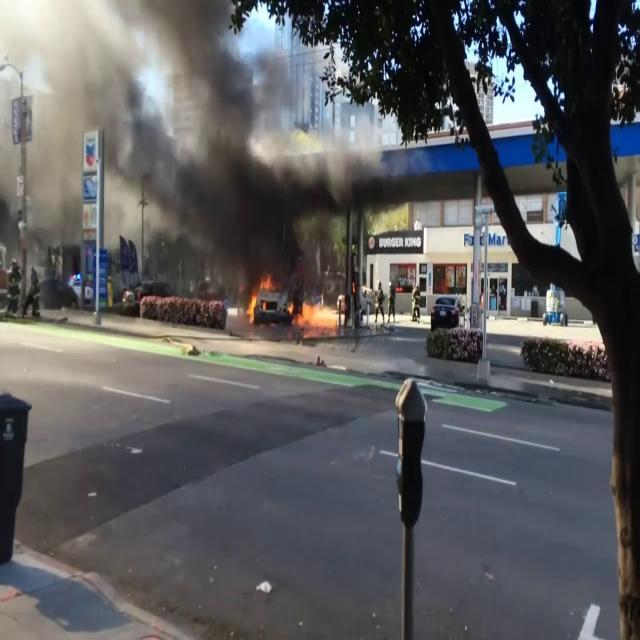Fire: (244, 275, 278, 322)
Smoke: (0, 1, 369, 272)
